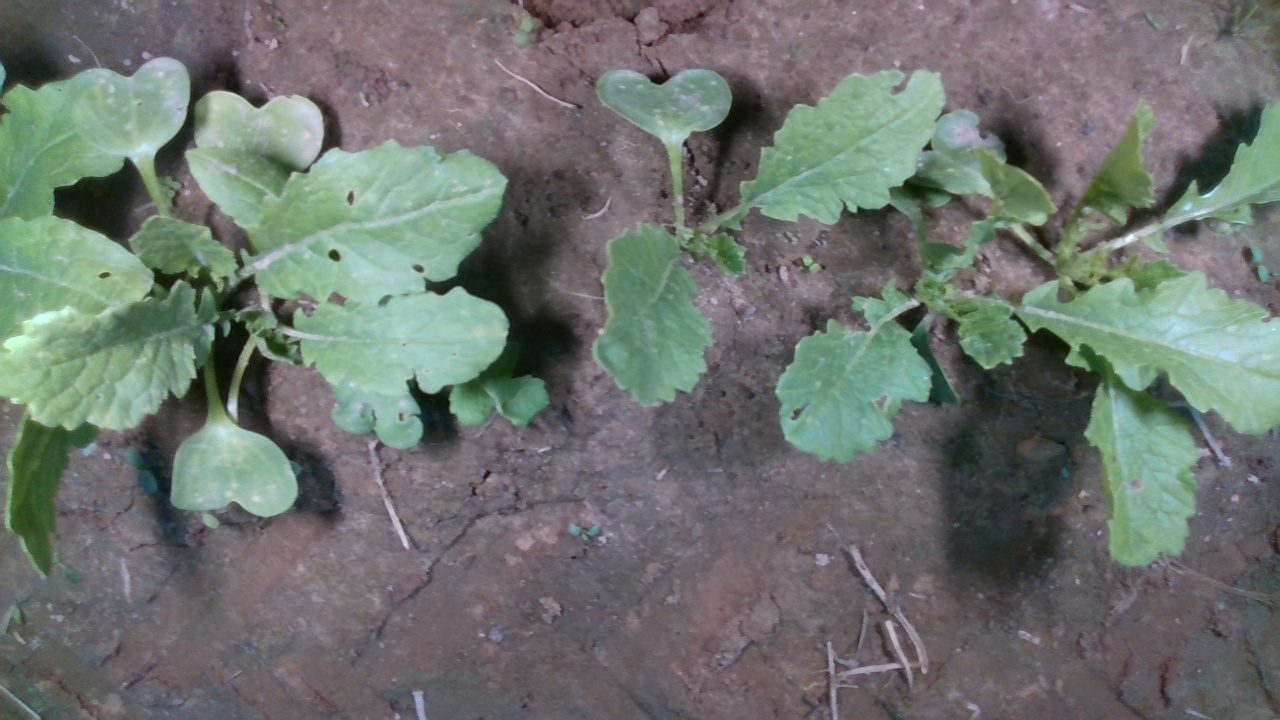weed: (1247, 242, 1270, 287), (567, 520, 602, 541), (801, 252, 823, 274)
